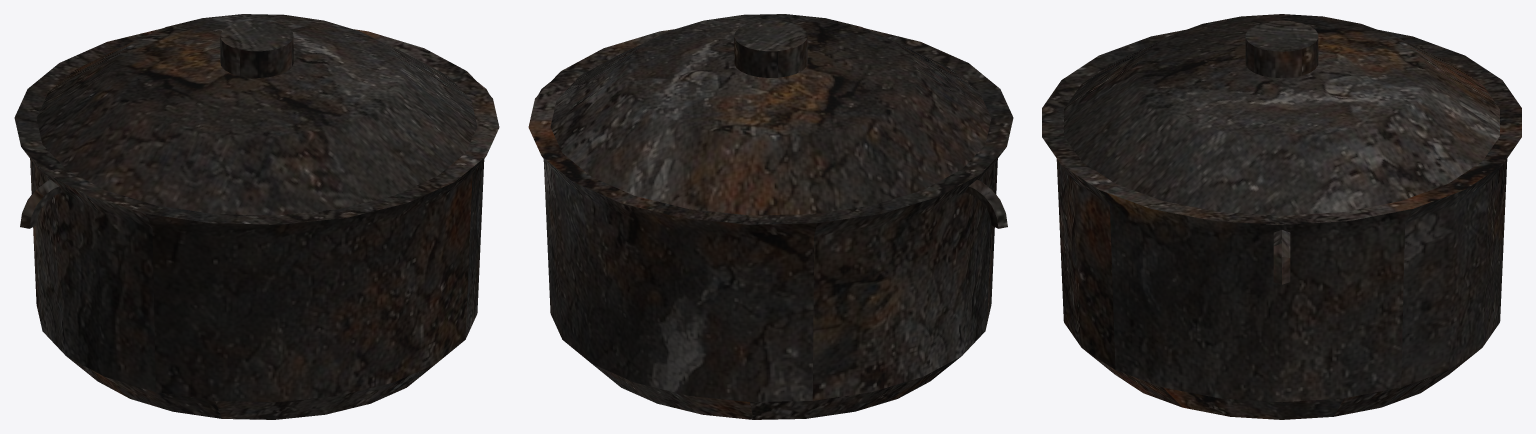
The model's file is iron-pot-v01-photo.glb.
The picture shows the model from 3 angles, left to right: view 1: azimuth 30°, elevation 25°; view 2: azimuth 150°, elevation 25°; view 3: azimuth 270°, elevation 25°; orthographic projection.
Visible parts, largest first — view 1: iron-pot; view 2: iron-pot; view 3: iron-pot.
Part boxes in pixels (bbox=[...]): iron-pot: bbox=[14, 14, 499, 419]; iron-pot: bbox=[528, 14, 1013, 419]; iron-pot: bbox=[1042, 14, 1521, 419].
Bounding box in the file's own units: 0.744 × 0.46 × 0.6533.
1 material, 1 textured.
